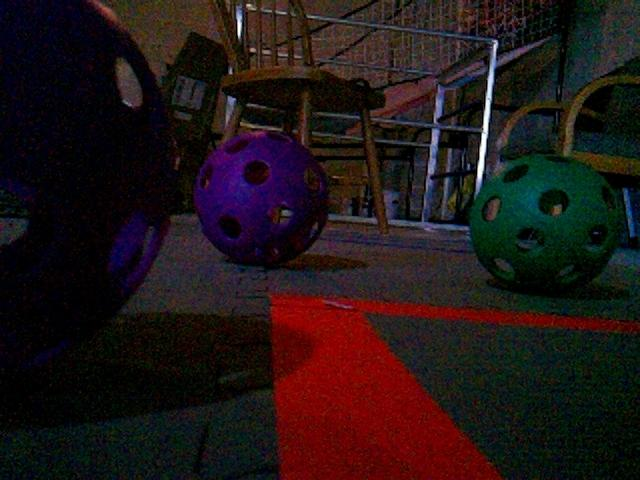Green: (471, 152, 622, 292)
Purple: (0, 2, 179, 388), (191, 128, 331, 266)
